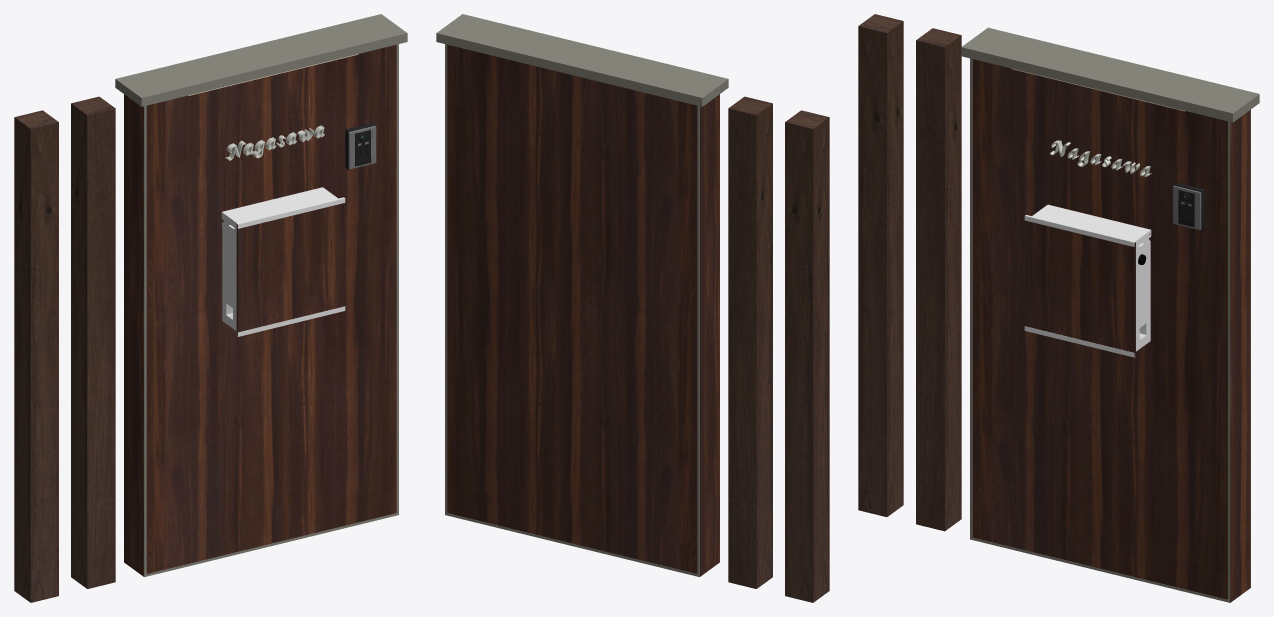
Rendered from ab37-m_orgunwooddark.fbx.
The picture shows the model from 3 angles, left to right: view 1: azimuth 30°, elevation 25°; view 2: azimuth 150°, elevation 25°; view 3: azimuth 330°, elevation 25°; orthographic projection. The views are drawn at different scales.
Visible parts, largest first — view 1: ab37-m_orgunwooddark; view 2: ab37-m_orgunwooddark; view 3: ab37-m_orgunwooddark.
Part boxes in pixels (box(x1,y1,x2,y2)): ab37-m_orgunwooddark: box(14, 14, 407, 602); ab37-m_orgunwooddark: box(436, 14, 829, 602); ab37-m_orgunwooddark: box(858, 14, 1259, 602).
Size of the model in its own units: 131 by 163 by 26.5.
Materials: 12 (6 with a texture image).
